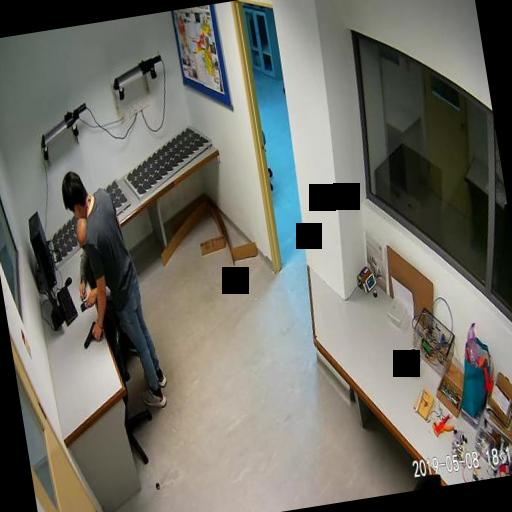Handgun: (76, 316, 106, 350)
